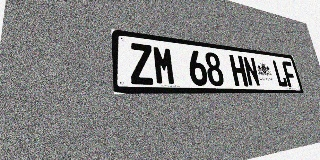6: (187, 49, 209, 86)
8: (204, 52, 225, 86)
F: (281, 61, 298, 87)
H: (229, 55, 248, 86)
L: (272, 60, 288, 87)
M: (152, 45, 176, 85)
N: (242, 56, 261, 87)
Z: (129, 43, 155, 85)
